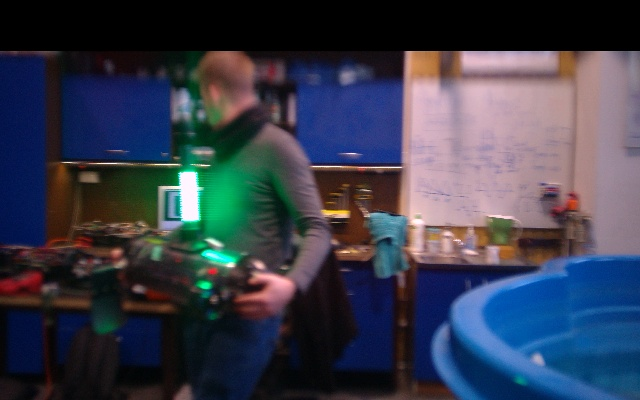green: (178, 166, 200, 225)
